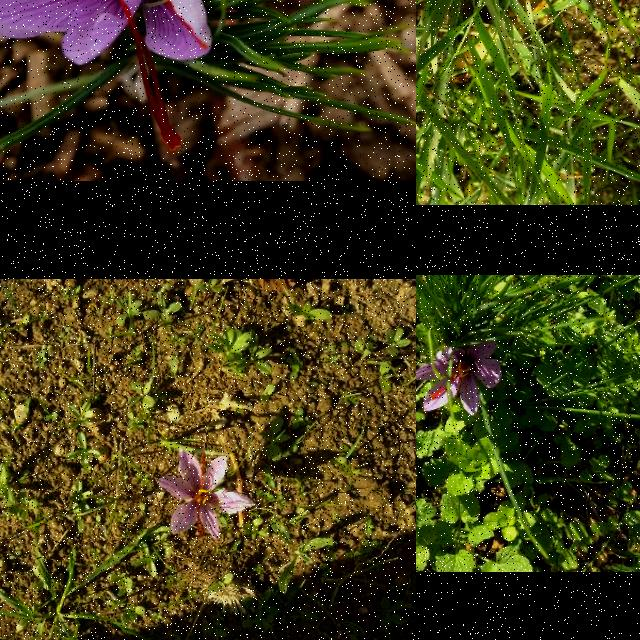flower: (0, 0, 228, 153), (155, 450, 257, 542), (416, 339, 502, 417)
